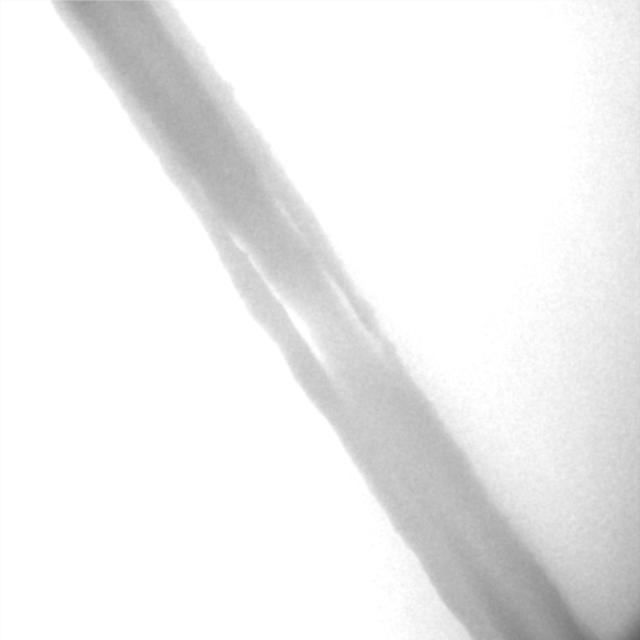unfused: (236, 197, 377, 378)
